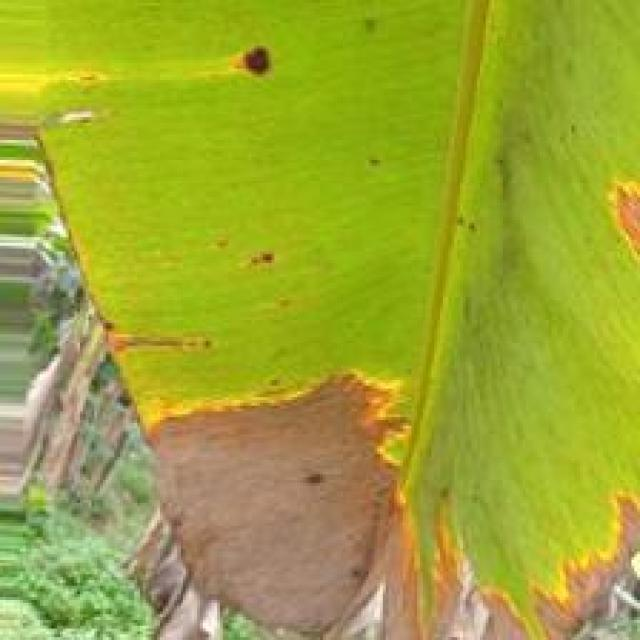Bacterial_spot: (131, 374, 446, 640), (433, 358, 640, 634), (599, 151, 640, 282), (93, 325, 232, 361), (210, 218, 286, 277), (219, 34, 292, 95), (38, 101, 110, 128), (270, 287, 303, 317)
